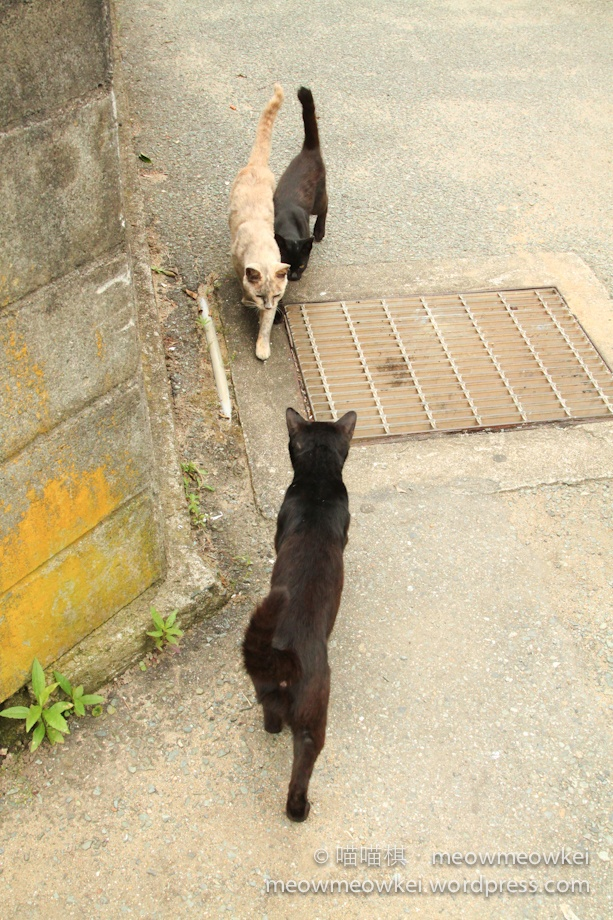cat: (236, 407, 356, 822), (226, 83, 291, 360), (271, 87, 328, 280)
